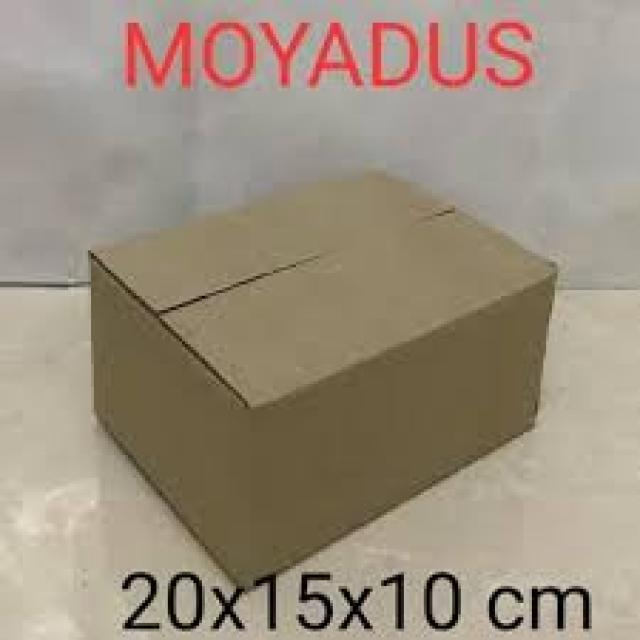Kardus kondisi bagus: (95, 169, 560, 597)
